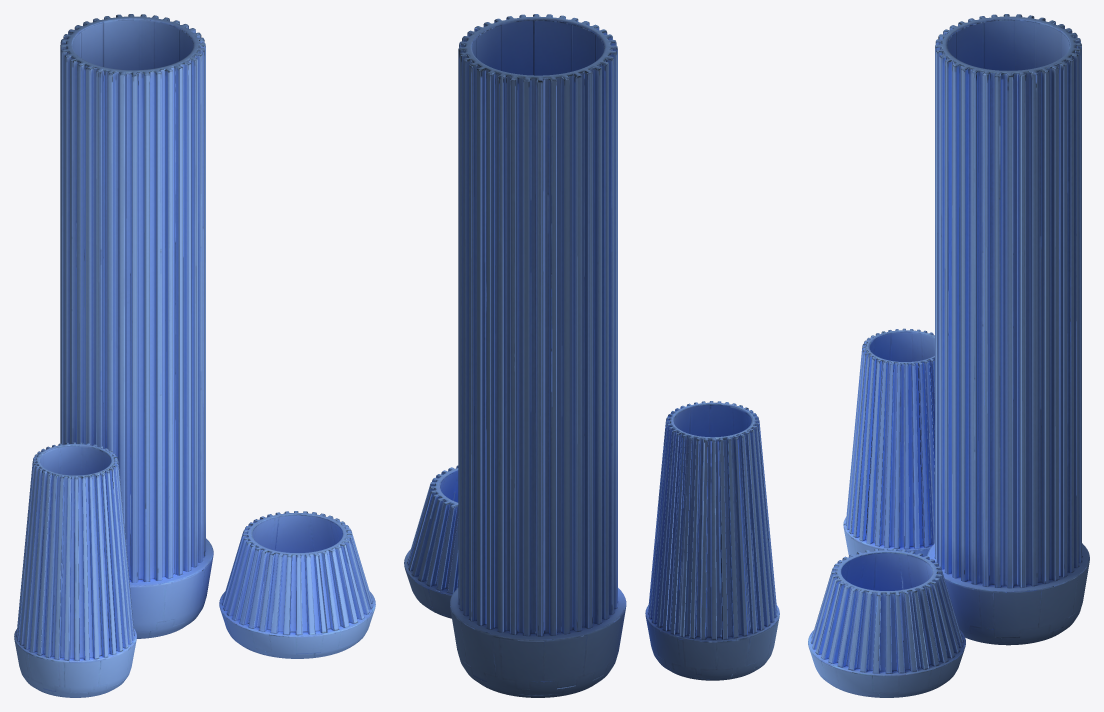
Rendered from cera0011.glb.
3 renders of one model, left to right at view 1: azimuth 30°, elevation 25°; view 2: azimuth 150°, elevation 25°; view 3: azimuth 270°, elevation 25°, orthographic. The views are drawn at different scales.
Visible parts, largest first — view 1: bake_ceramic0011; view 2: bake_ceramic0011; view 3: bake_ceramic0011.
Part boxes in pixels (box(x1,y1,x2,y2)): bake_ceramic0011: box(14, 14, 375, 697); bake_ceramic0011: box(404, 14, 779, 697); bake_ceramic0011: box(808, 14, 1089, 697).
Bounding box in the file's own units: 228 × 375 × 165.
Materials: 1 (1 with a texture image).
